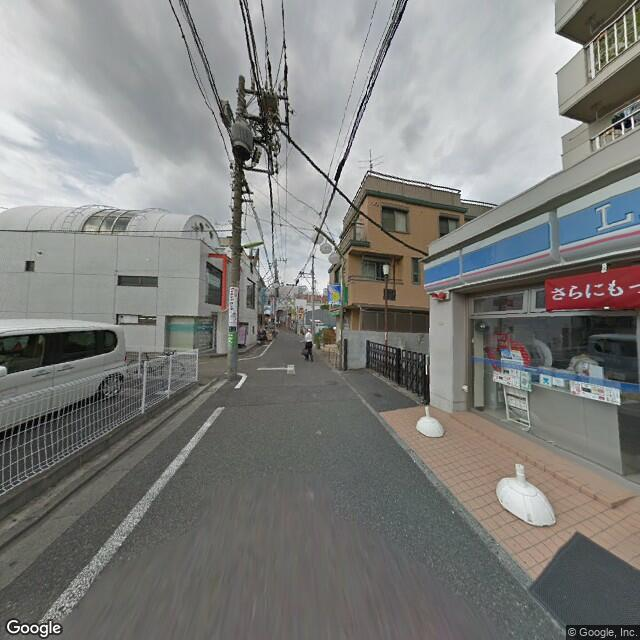lawson: (421, 168, 638, 292)
